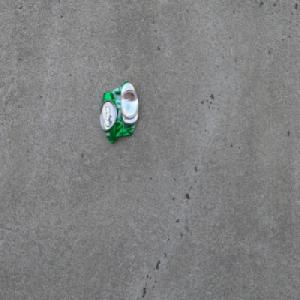SodaCan: (99, 80, 139, 144)
